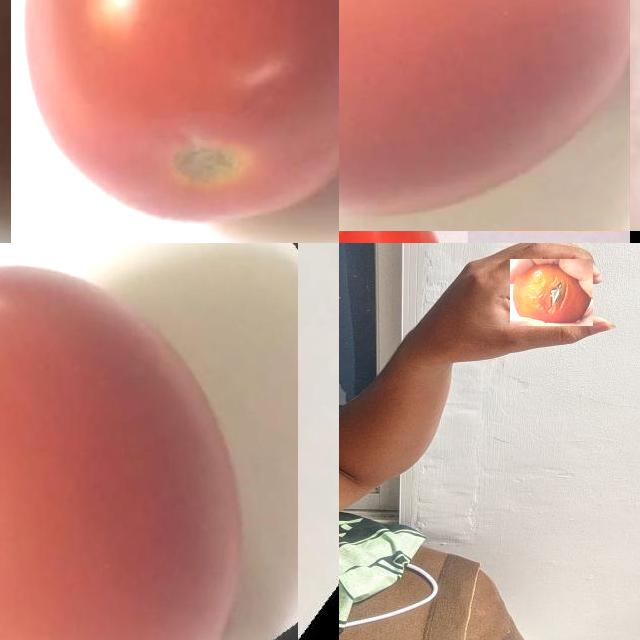1: (510, 259, 593, 326)
Fresh Tomato: (0, 243, 298, 640), (11, 0, 339, 243), (339, 0, 630, 231)
